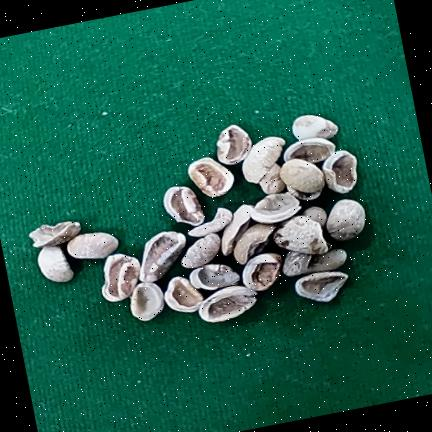shell: (139, 231, 186, 282), (274, 216, 329, 255), (199, 286, 256, 322), (243, 136, 286, 183), (102, 254, 141, 302), (189, 157, 234, 197), (234, 224, 276, 264), (221, 205, 254, 255), (295, 271, 348, 302), (326, 199, 365, 241), (252, 192, 301, 223), (281, 159, 325, 193), (165, 187, 204, 225), (243, 253, 282, 291), (323, 151, 358, 193), (67, 232, 119, 259), (29, 221, 81, 248), (217, 125, 252, 164), (182, 233, 221, 268), (165, 277, 204, 312), (188, 207, 233, 237), (190, 264, 240, 290), (38, 246, 74, 282), (131, 282, 164, 321), (284, 138, 335, 163), (293, 115, 339, 140), (304, 249, 347, 273), (260, 163, 285, 194), (283, 251, 312, 276), (302, 206, 327, 228), (288, 186, 322, 200)
